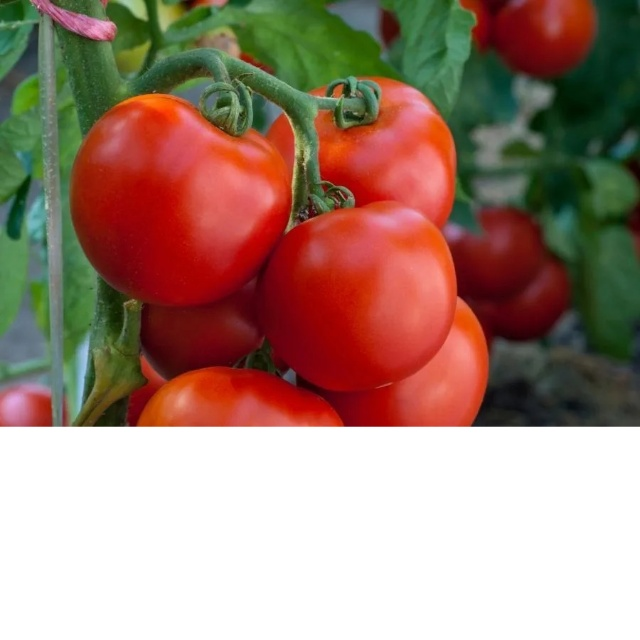ca_chua: (71, 94, 292, 308), (266, 202, 455, 394), (267, 78, 455, 231), (333, 294, 490, 424), (137, 366, 345, 425), (453, 204, 541, 301), (140, 300, 267, 365), (497, 5, 594, 79), (492, 252, 571, 342)
